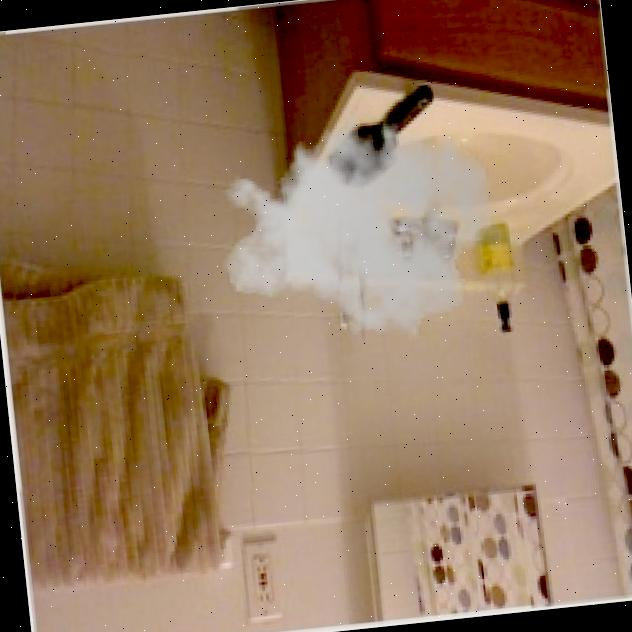smoke: (206, 85, 508, 364)
